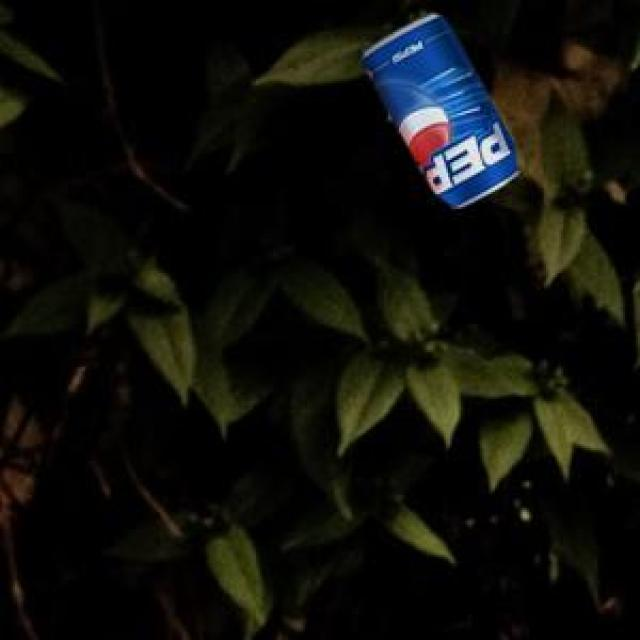logam: (359, 12, 515, 204)
